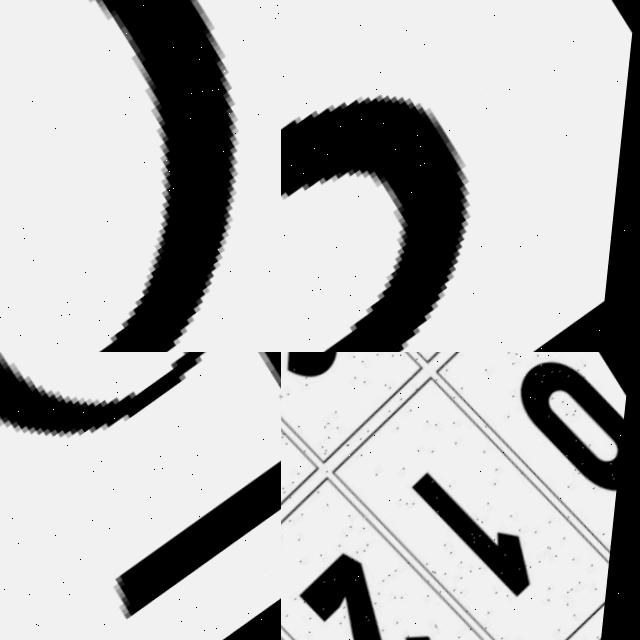0: (488, 352, 637, 548)
1: (393, 435, 578, 639)
2: (281, 523, 486, 640)
5: (0, 352, 281, 640)
C: (78, 0, 243, 352)
S: (281, 0, 638, 352)
